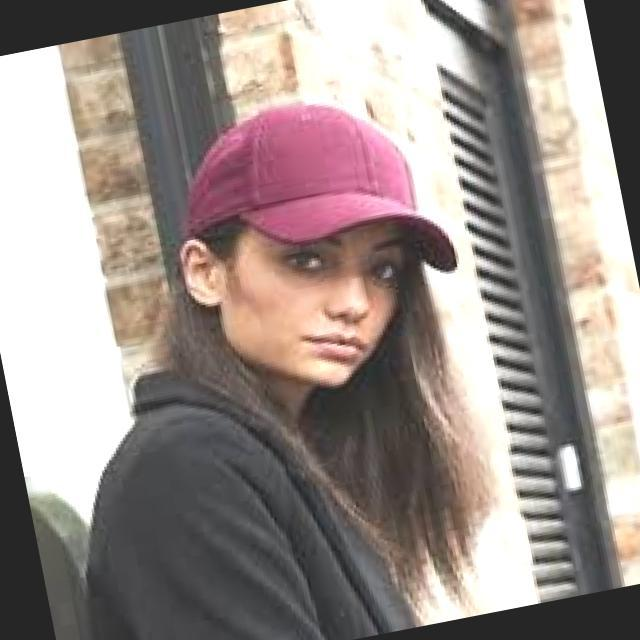cap: (138, 58, 490, 346)
